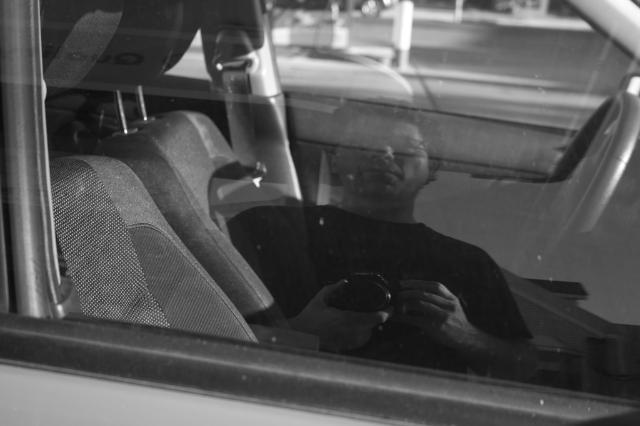Seatbelt: (215, 70, 257, 166)
